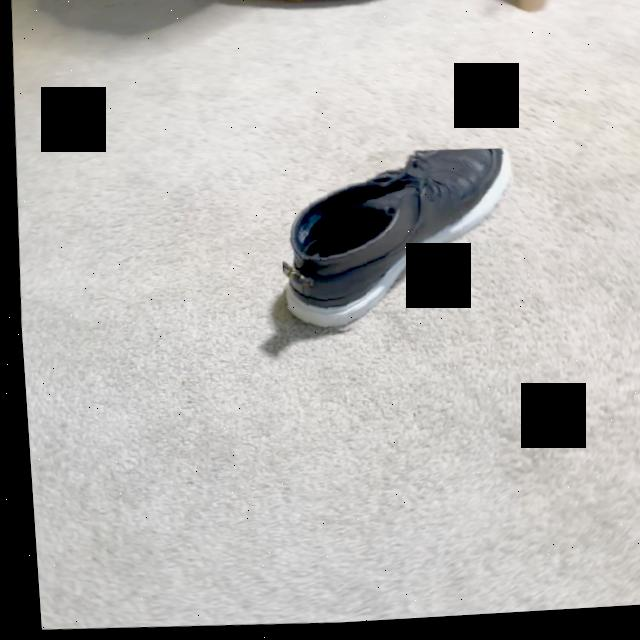shoe: (278, 154, 509, 336)
